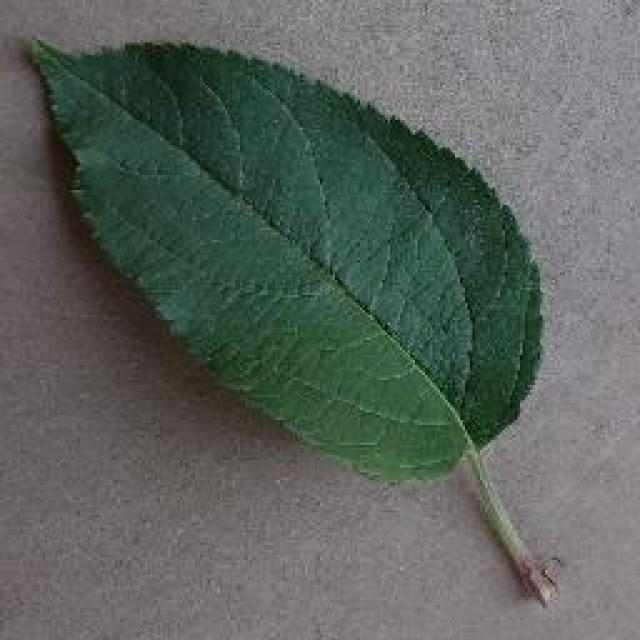apple healthy: (22, 30, 560, 608)
